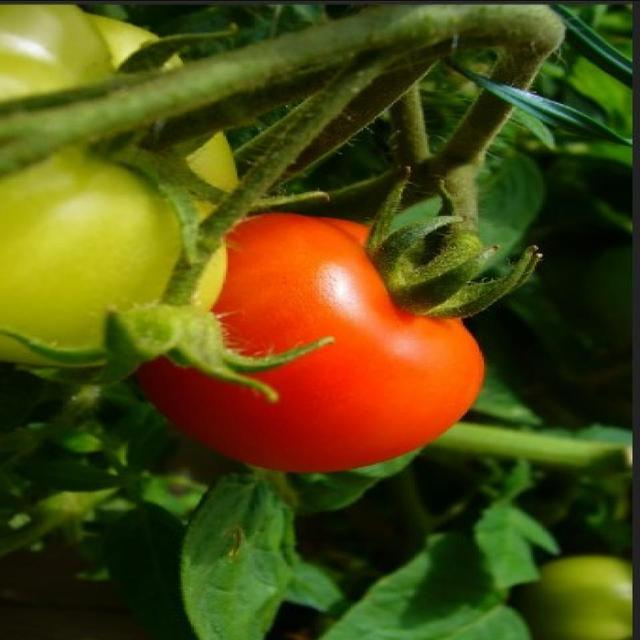Healthy Fruit: (82, 146, 335, 324)
